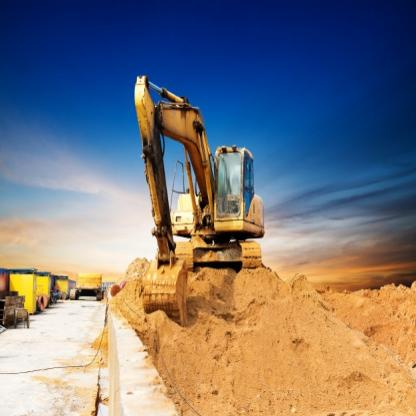excavator: (117, 61, 300, 330)
